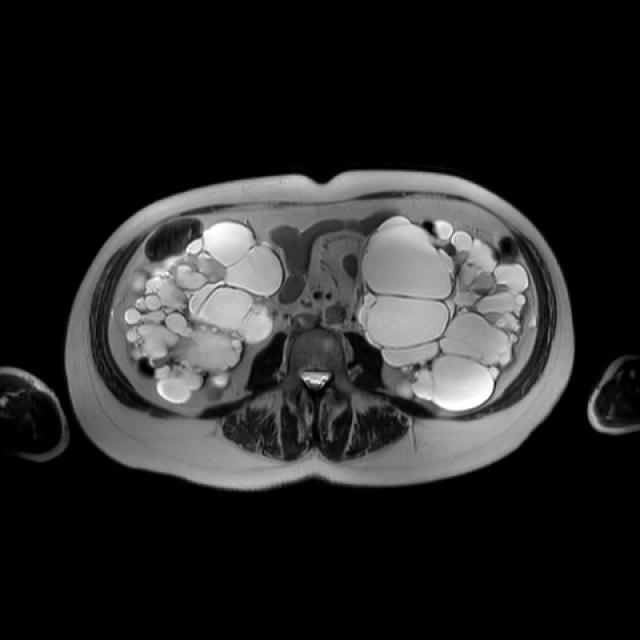sag: (124, 222, 283, 401)
sol: (362, 217, 529, 412)
